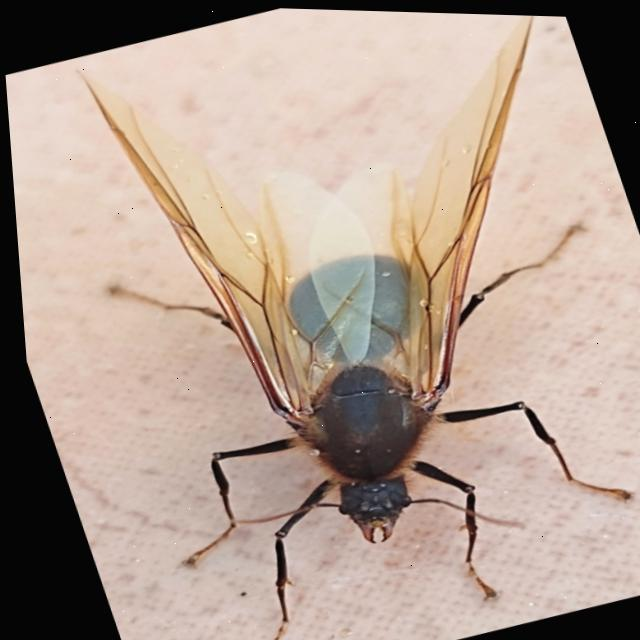Alive-Male-Alate: (14, 0, 640, 640)
